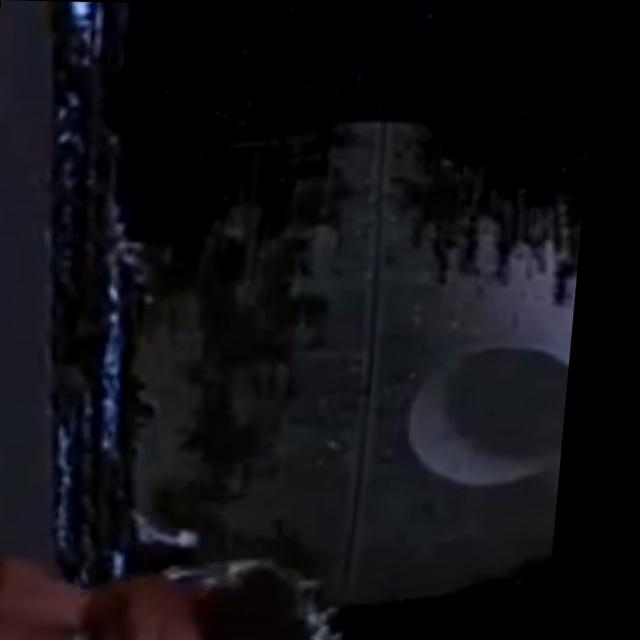deathStar: (127, 112, 592, 615)
